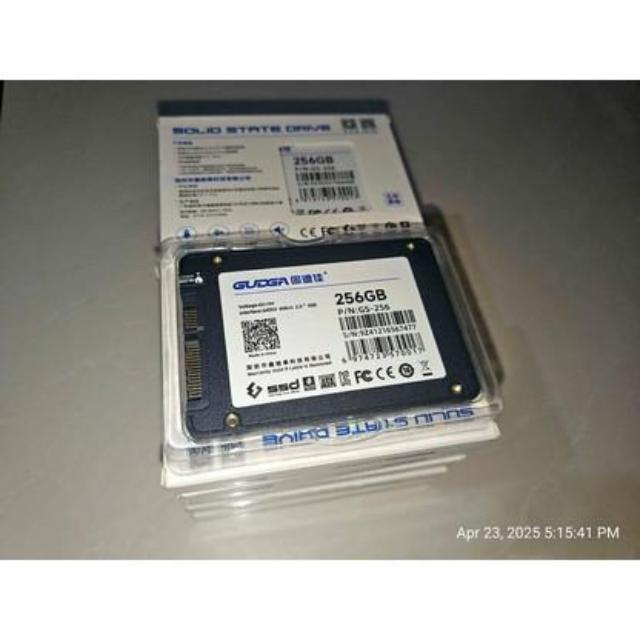DISK: (170, 235, 478, 440)
